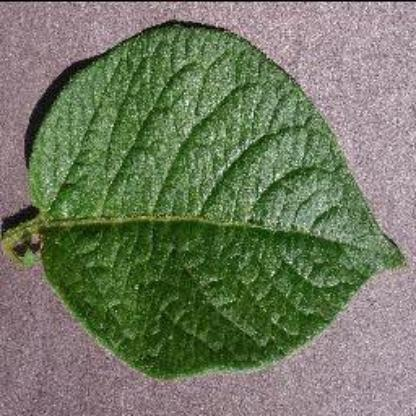Healthy-plant: (14, 20, 408, 406)
